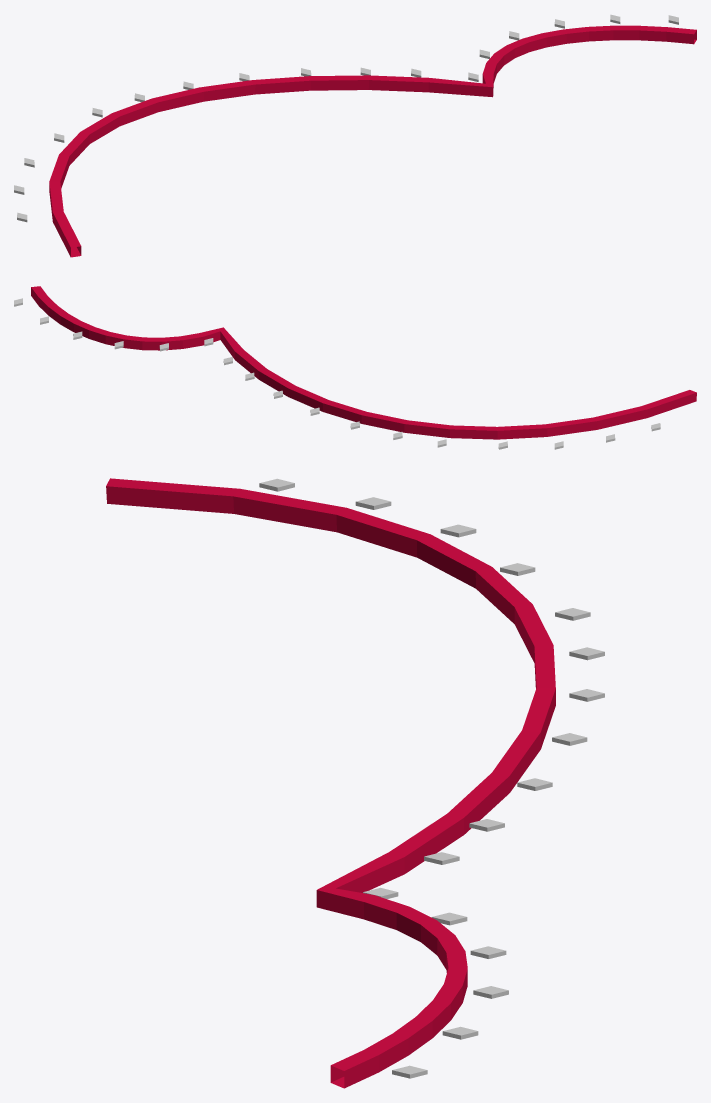
Rendered from SM_Guirlande.fbx.
The picture shows the model from 3 angles, top to bottom: view 1: azimuth 30°, elevation 25°; view 2: azimuth 150°, elevation 25°; view 3: azimuth 270°, elevation 25°; orthographic projection. The views are drawn at different scales.
Parts seen in each view (by area): view 1: Cube.013; view 2: Cube.013; view 3: Cube.013.
Boxes of the visible parts, x1,y1,x2,y2 form: Cube.013: [14, 14, 696, 257]; Cube.013: [14, 286, 696, 449]; Cube.013: [106, 478, 604, 1088].
Bounding box in the file's own units: 294 × 6.9 × 103.
